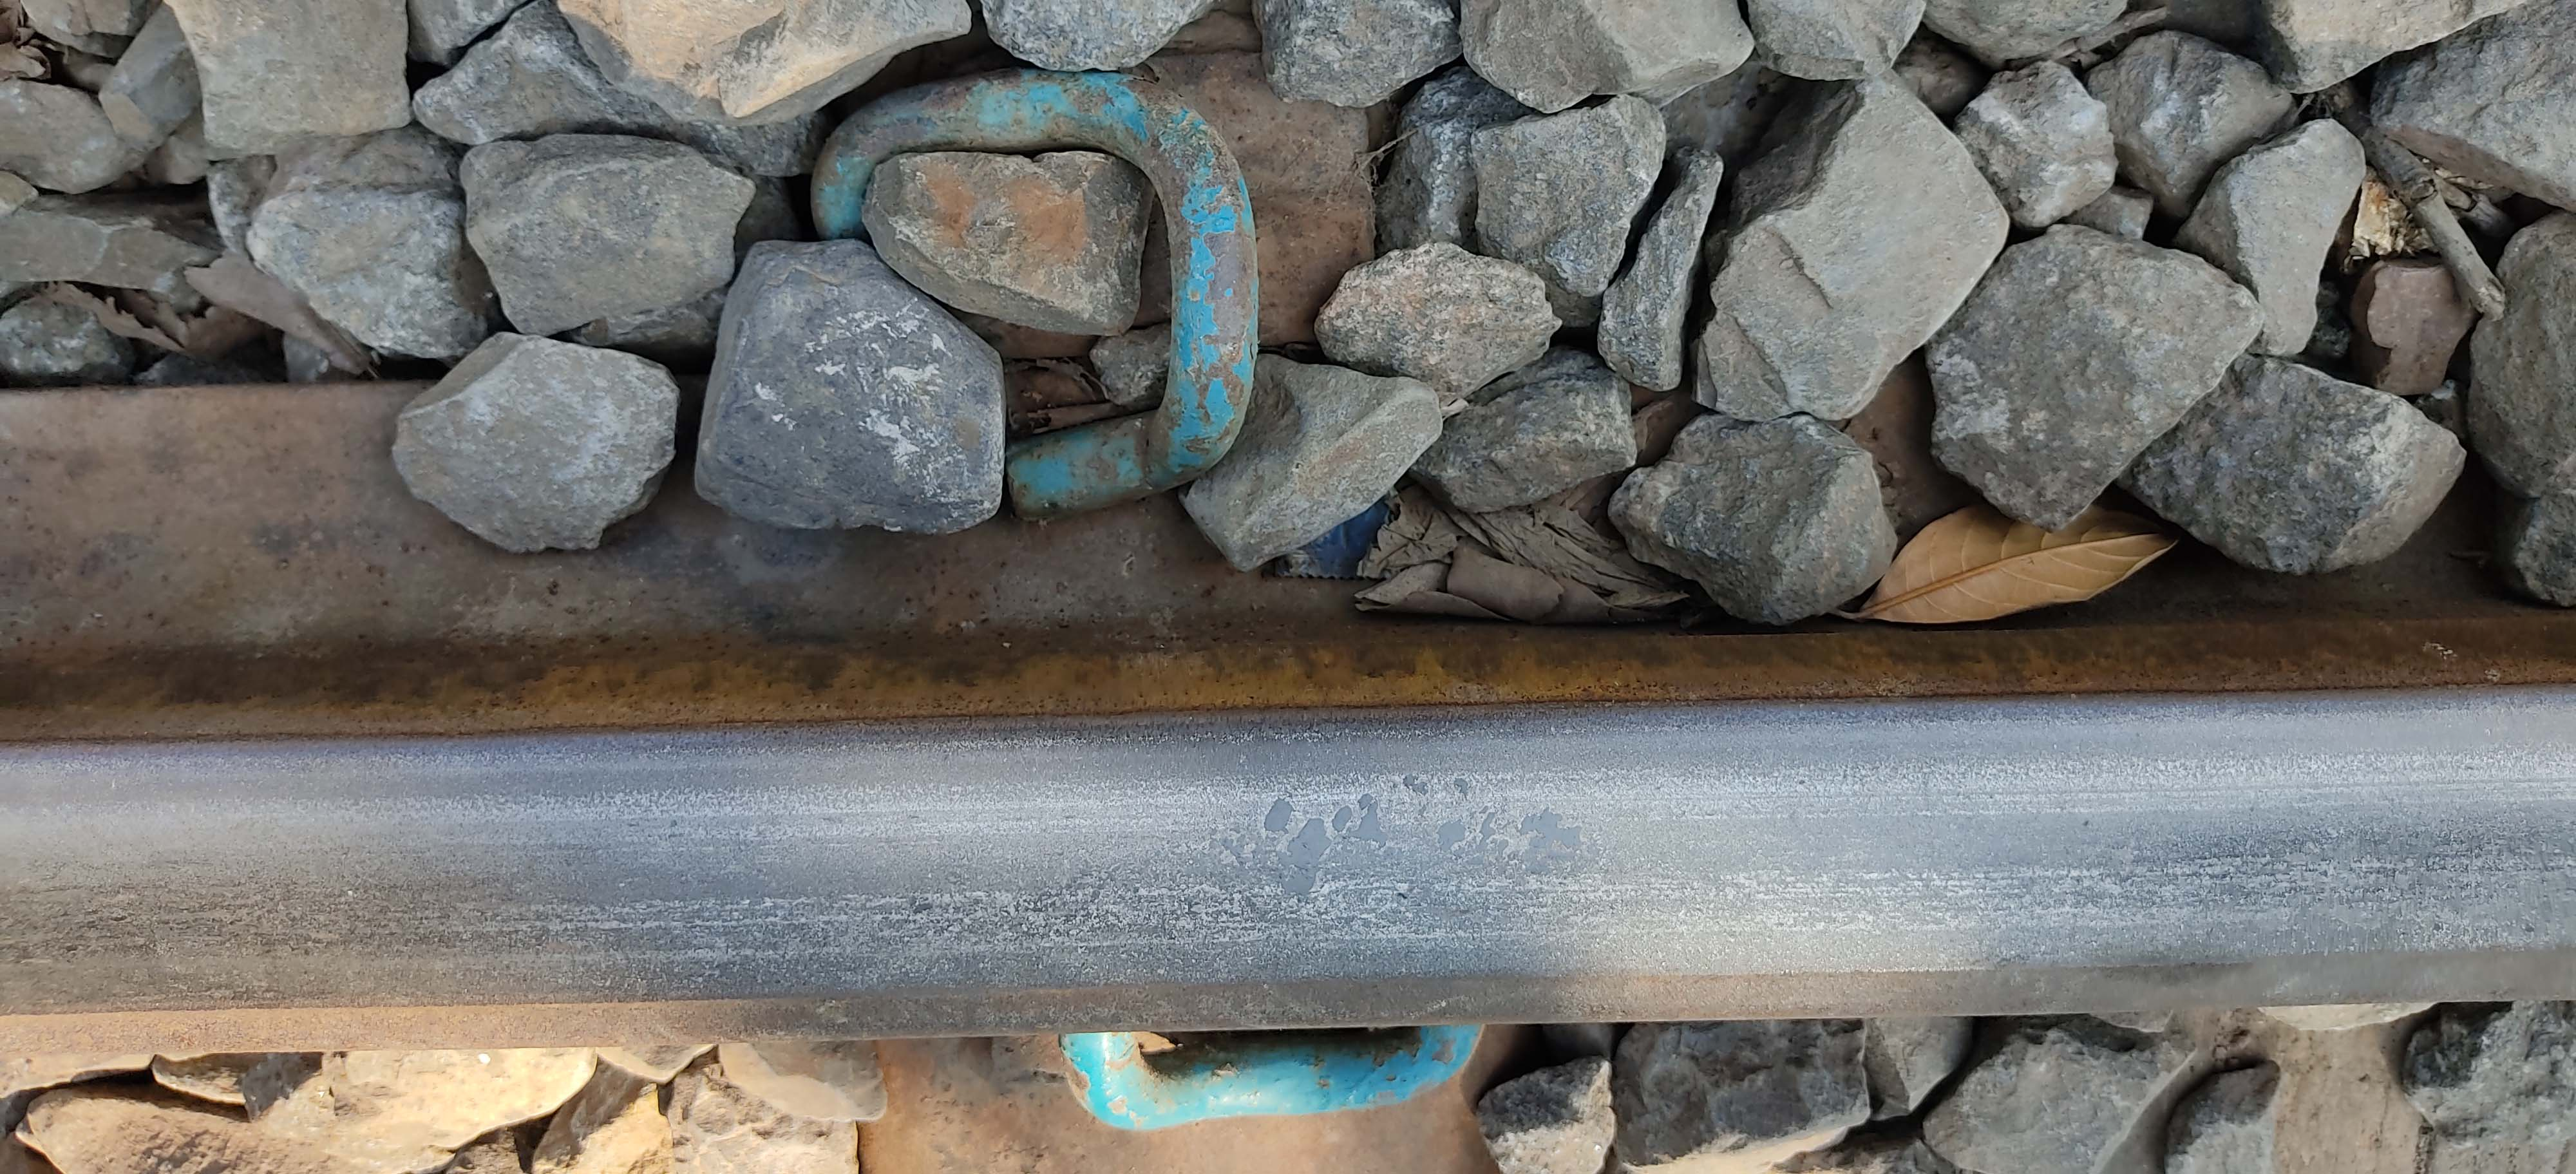error1: (761, 44, 1395, 627)
